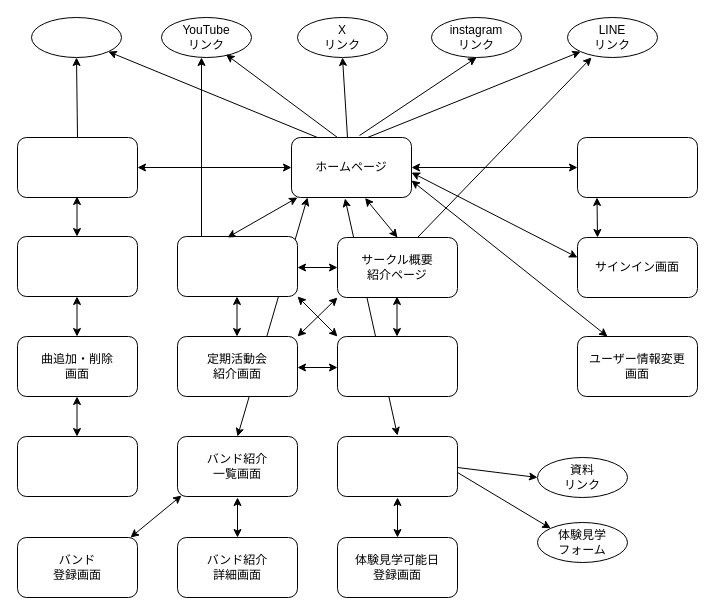
The diagram is 715 pixels wide and 615 high, and some of its shapes have lost their labels. Each missing label, with the centre of its shape:
"OMS 紹介画面" belongs at (x=237, y=266).
"スターターバンド・アシスト 紹介画面" belongs at (x=397, y=366).
"バンド分け結果 表示画面" belongs at (x=77, y=466).
"ログイン画面" belongs at (x=637, y=167).
"入会案内画面" belongs at (x=397, y=466).
"参加者登録 画面" belongs at (x=77, y=266).
"定期活動会 参加者登録 画面" belongs at (x=77, y=167).
"楽譜 リンク" belongs at (x=76, y=37).
